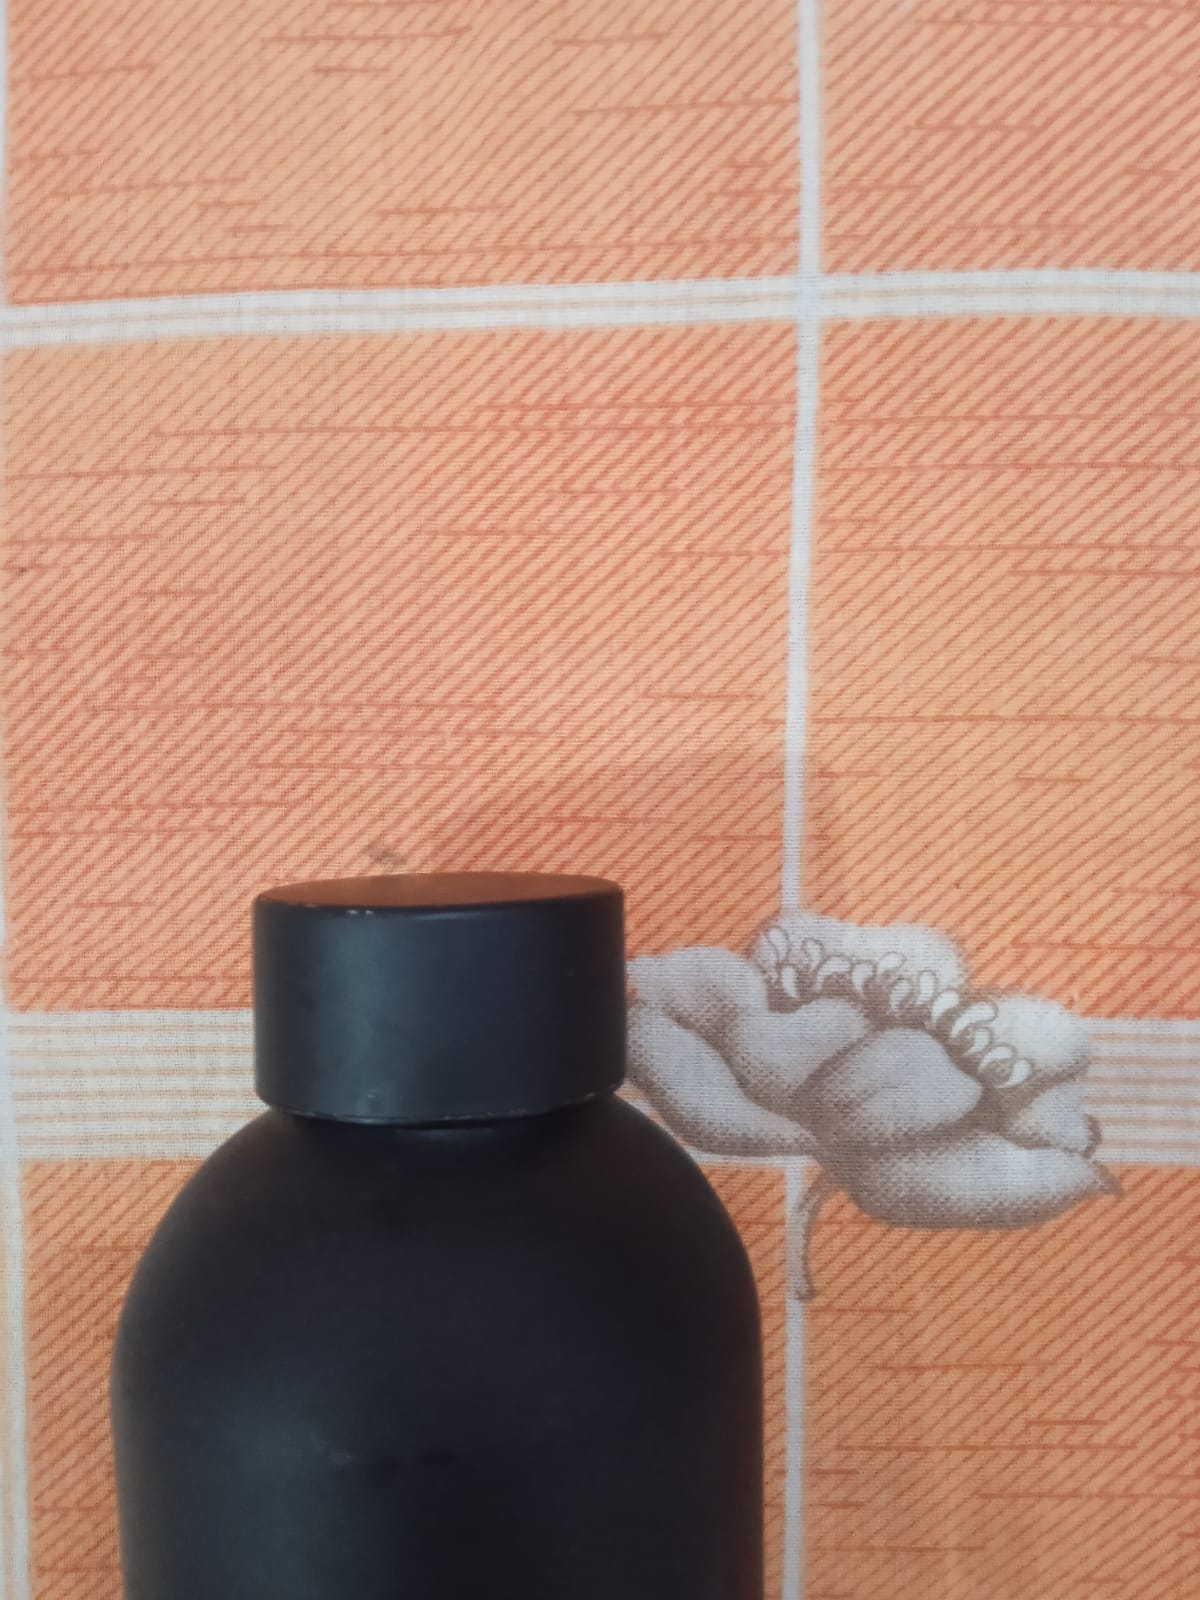bottle: (67, 823, 865, 1599)
